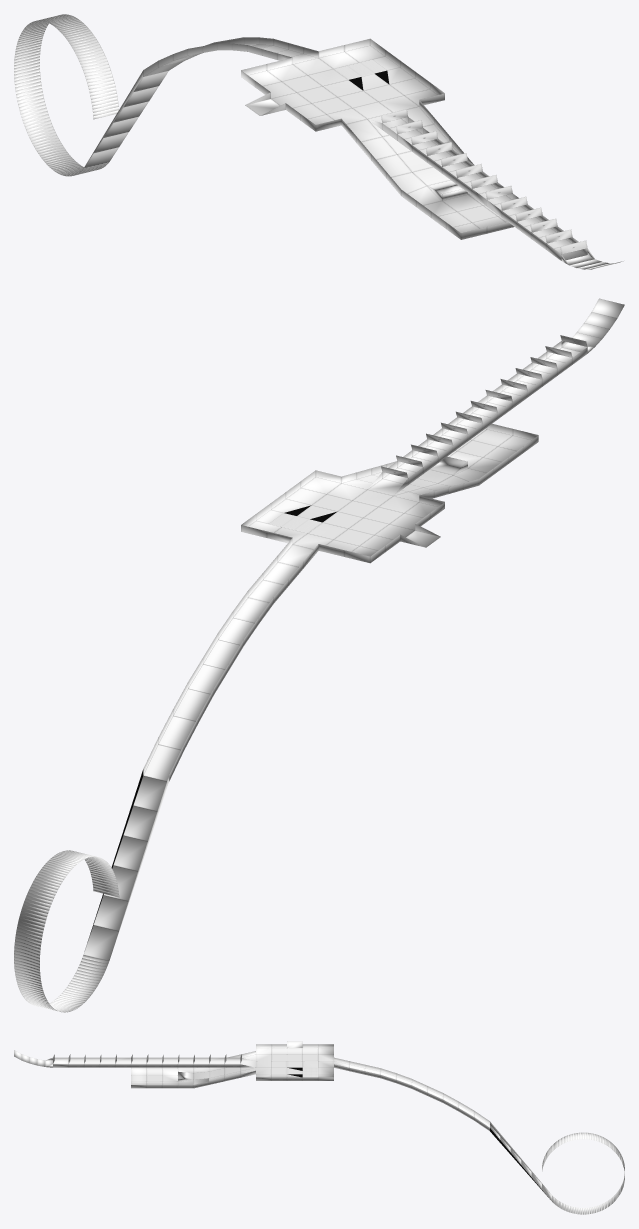
File: tuning_testlevel.obj
The picture shows the model from 3 angles, top to bottom: view 1: azimuth 30°, elevation 25°; view 2: azimuth 150°, elevation 25°; view 3: azimuth 270°, elevation 25°; orthographic projection. The views are drawn at different scales.
Visible parts, largest first — view 1: Plane; view 2: Plane; view 3: Plane.
Part boxes in pixels (x1,y1,x2,y2): Plane: [14, 14, 623, 269]; Plane: [14, 298, 624, 1012]; Plane: [14, 1041, 624, 1214].
Bounding box in the file's own units: 120 × 224 × 783.
14 materials, 14 textured.
